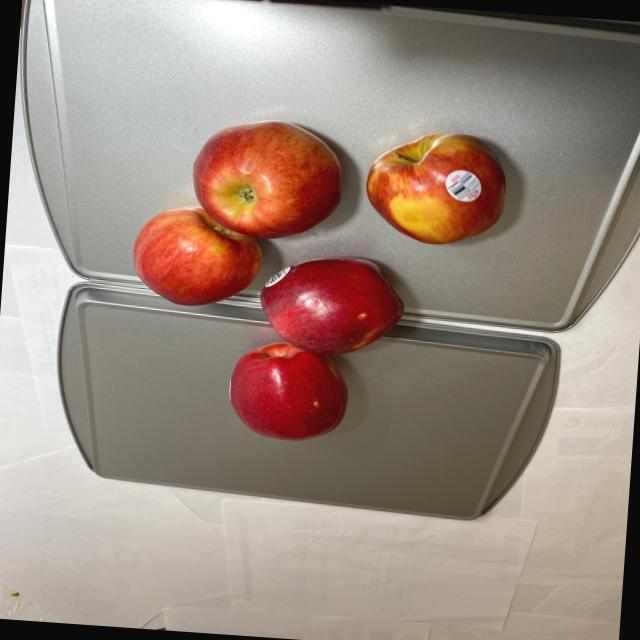apple: (122, 114, 510, 456)
